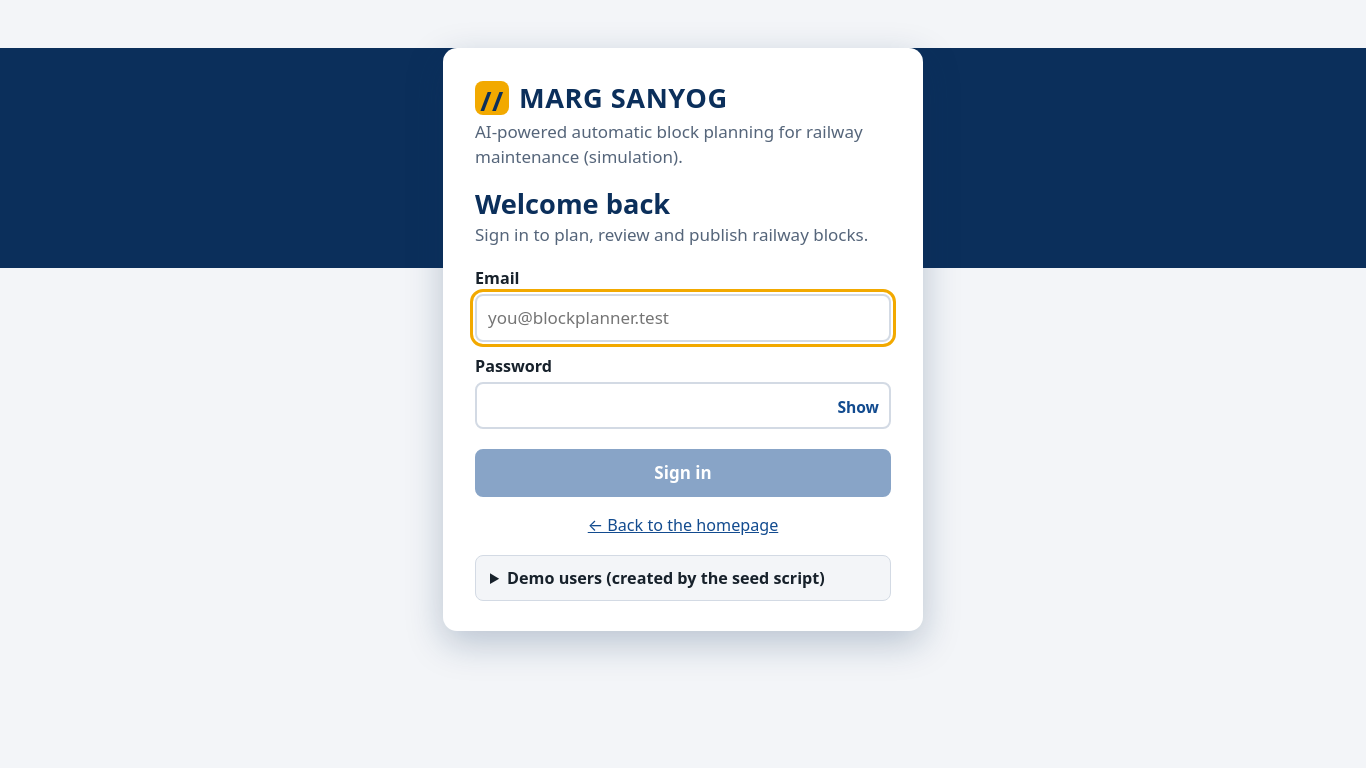
Test: login page › explains a wrong password in plain words
This screenshot has width=1366, height=768.
Type "planner@blockplanner.test" into the field labelled "Email" at [683, 318], box [475,294,891,342]
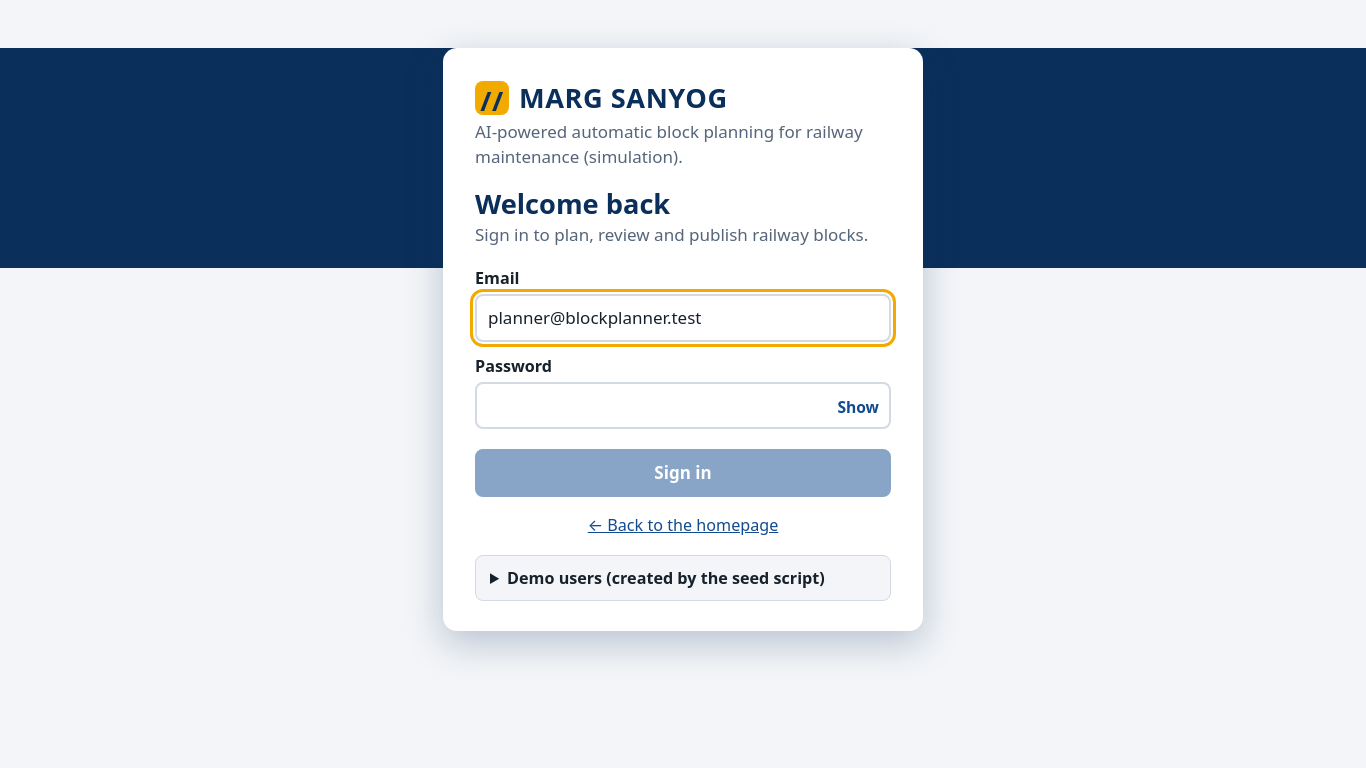
Type "wrong" into the password field labelled "Password" at [683, 406], box [475,382,891,429]
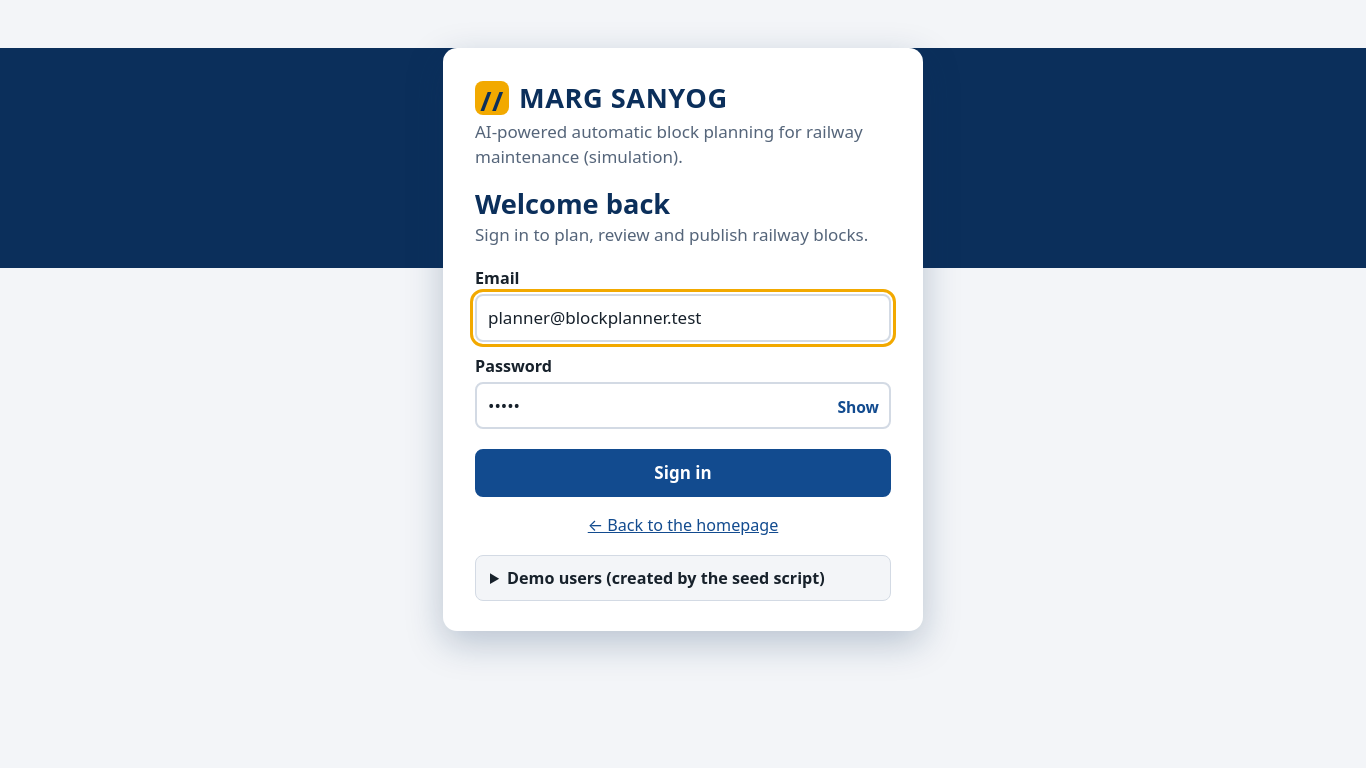
Click the button "Sign in" at [683, 473], box [475,449,891,497]
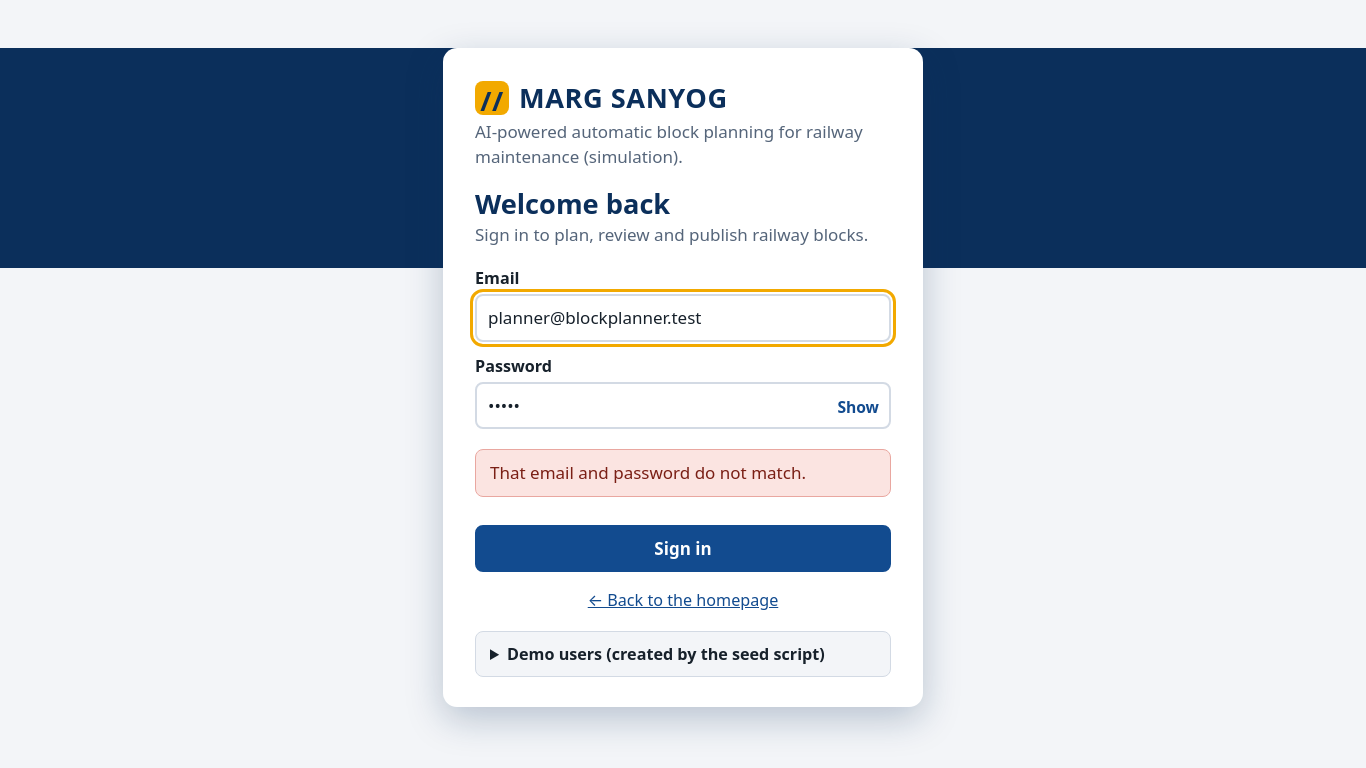
Check: the message reads "That email and password do not match.", box [490,461,806,484]
